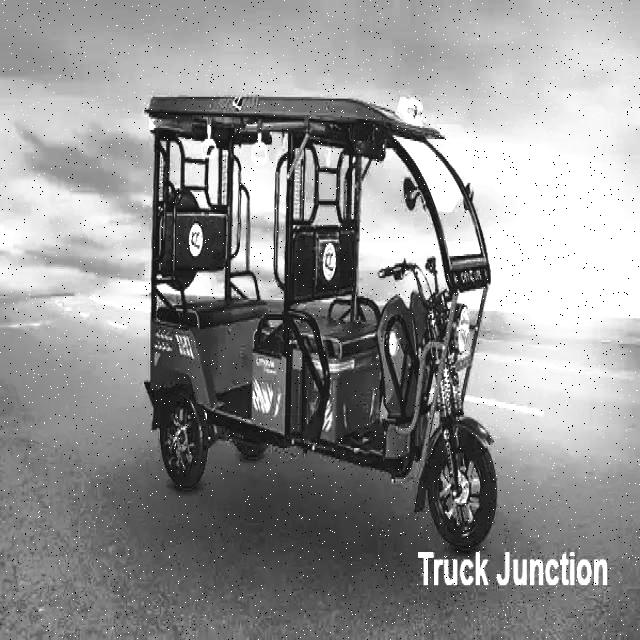Toto: (143, 88, 501, 550)
